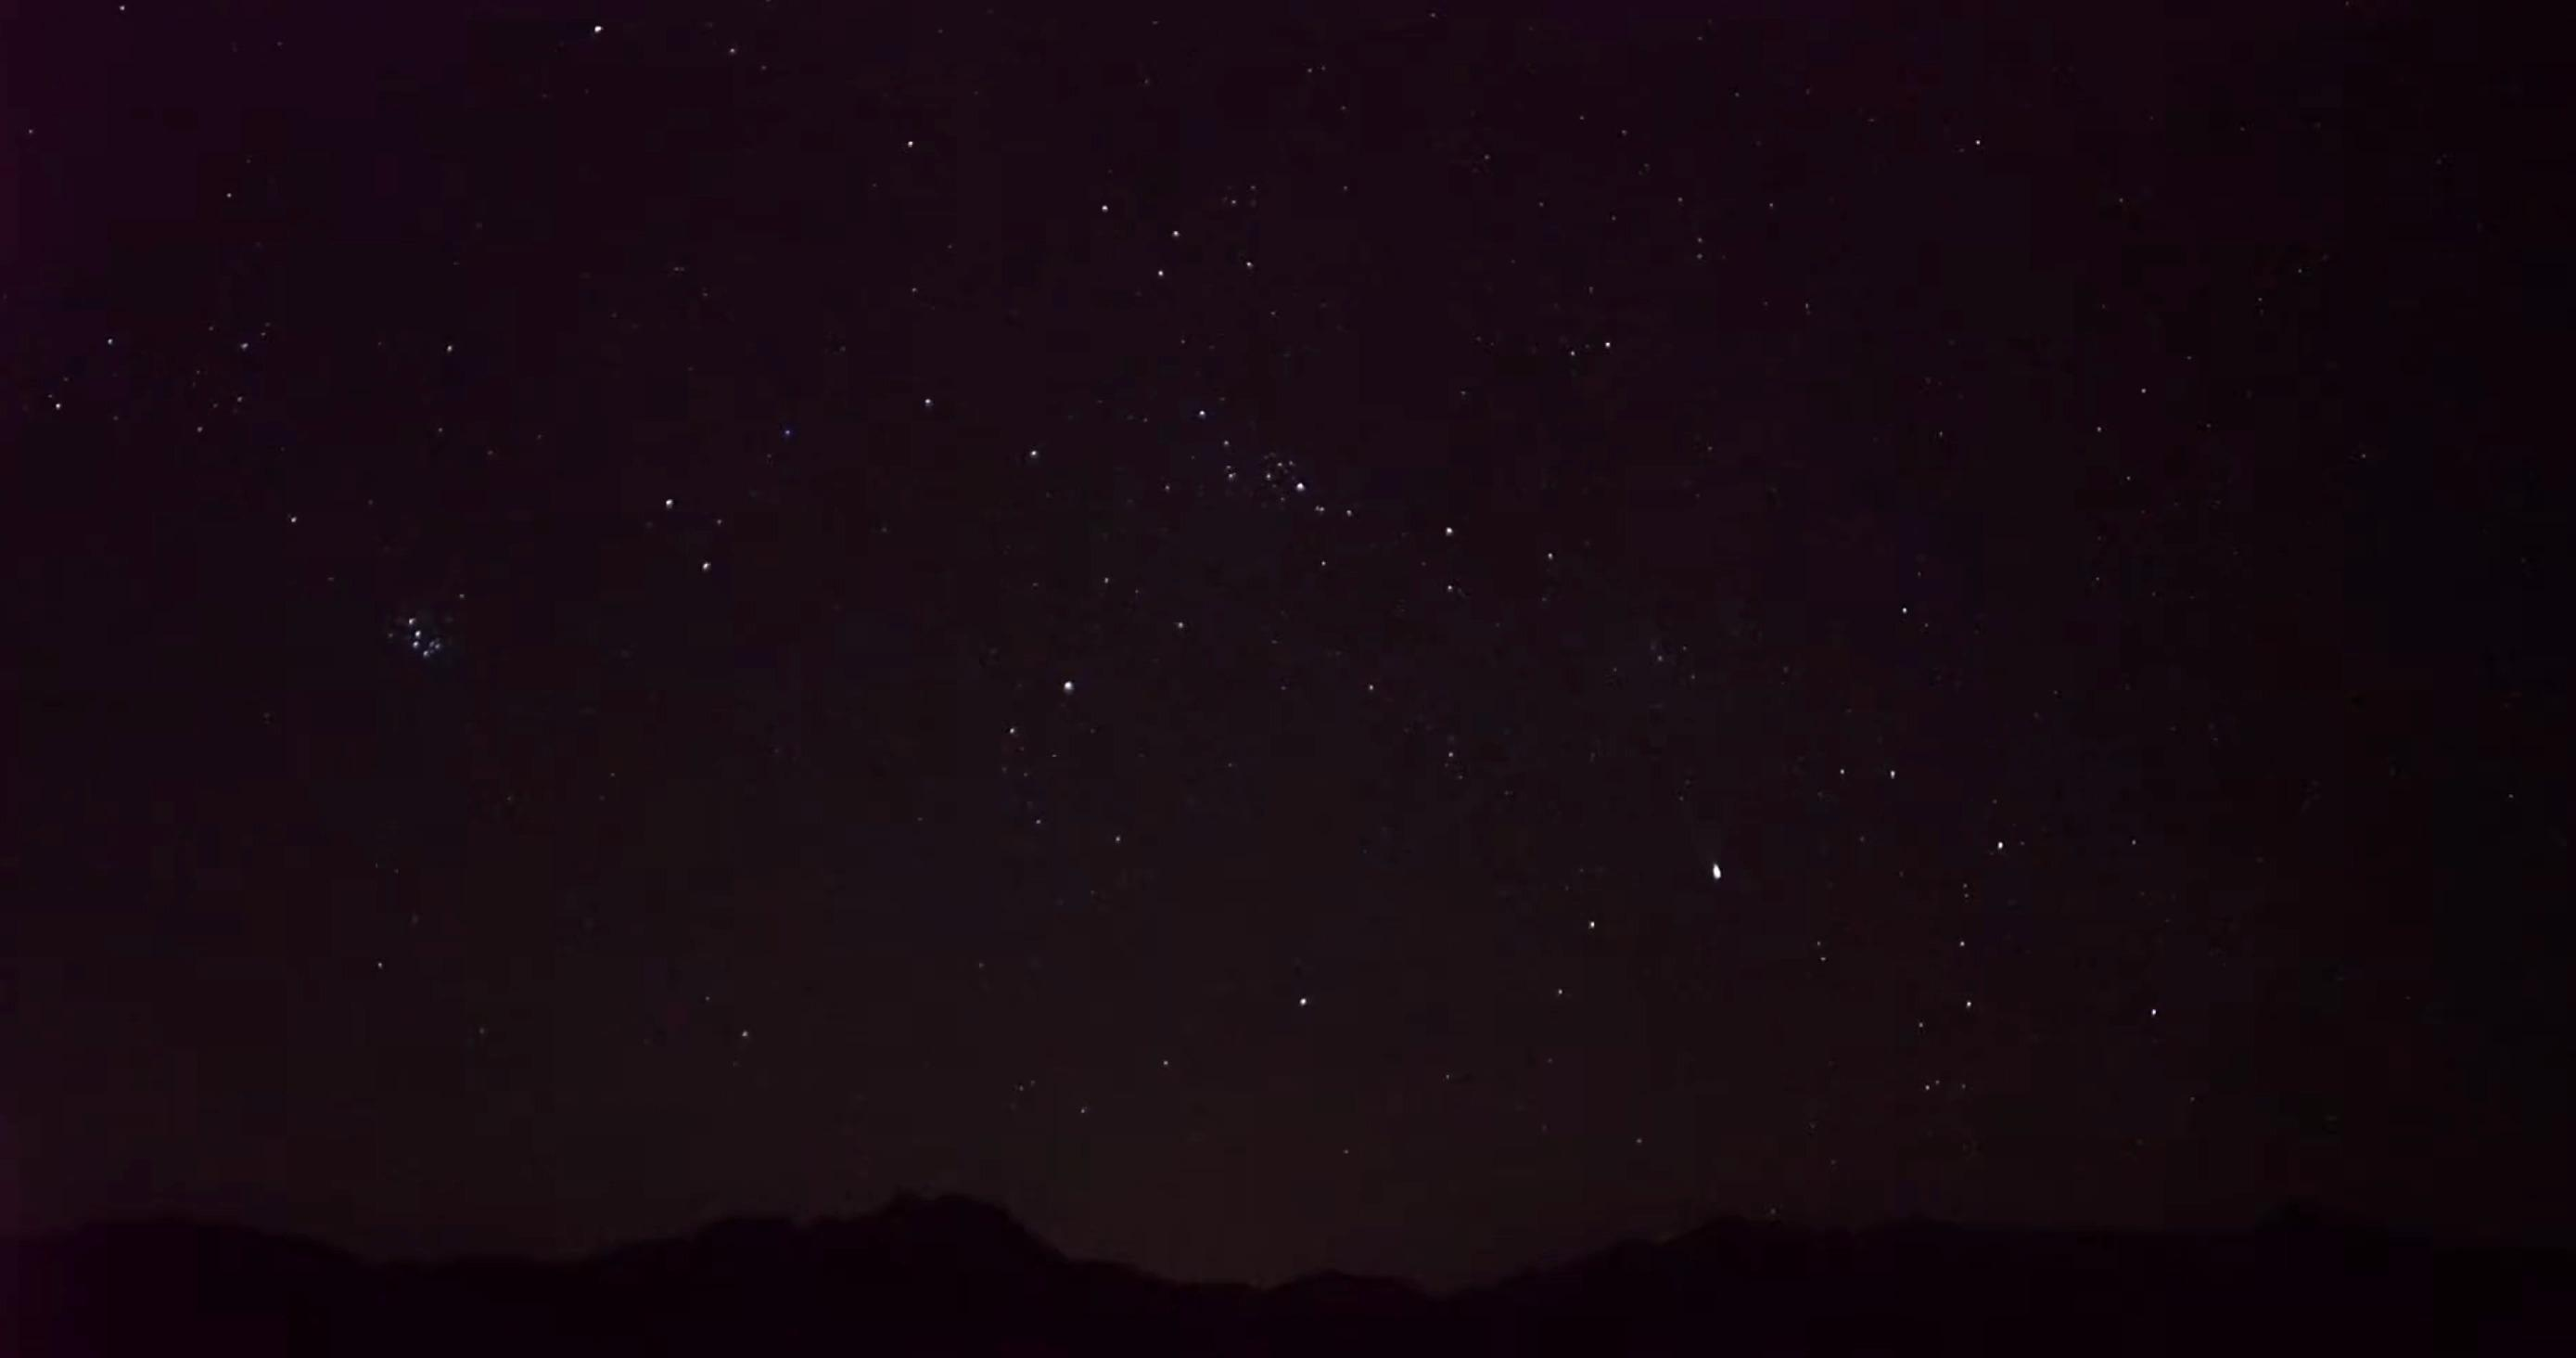meteorite: (1680, 816, 1753, 896)
